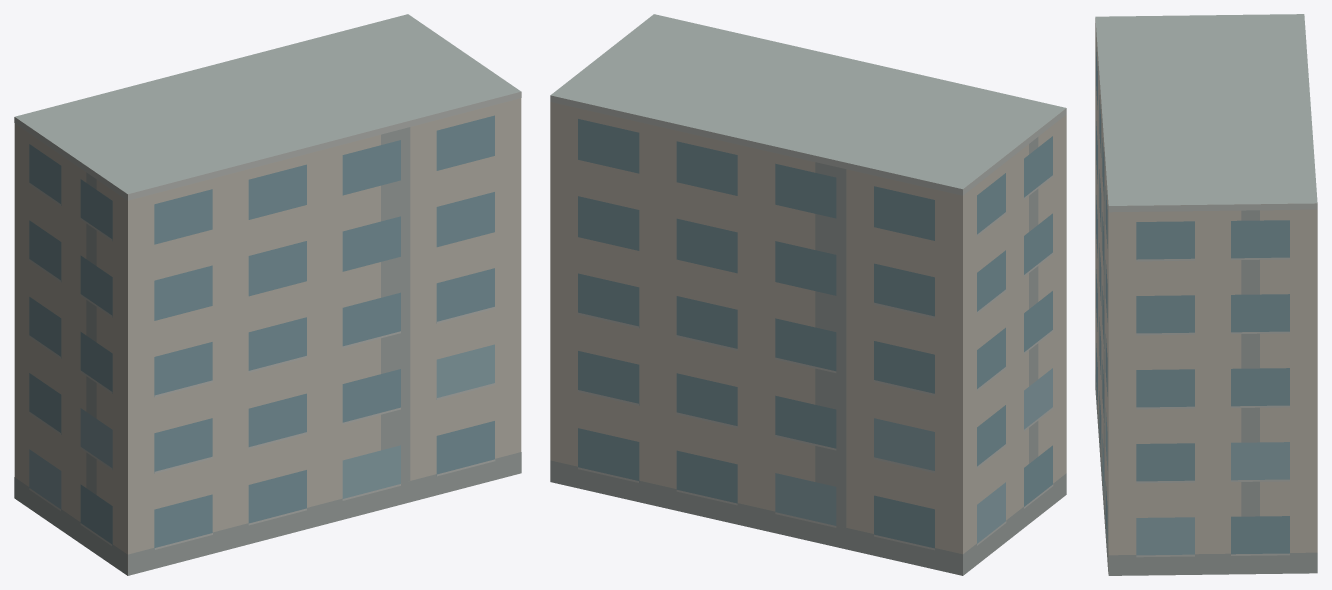
File: survey-upis-33006916.glb
3 views of the same model, side by side, from view 1: azimuth 30°, elevation 25°; view 2: azimuth 150°, elevation 25°; view 3: azimuth 270°, elevation 25° (orthographic). The views are drawn at different scales.
Visible parts, largest first — view 1: survey-upis-33006916.tmp; view 2: survey-upis-33006916.tmp; view 3: survey-upis-33006916.tmp.
Part boxes in pixels (x1,y1,x2,y2): survey-upis-33006916.tmp: (14,14,521,575); survey-upis-33006916.tmp: (550,14,1066,575); survey-upis-33006916.tmp: (1095,14,1317,575).
Bounding box in the file's own units: 16.26 × 14.6 × 7.96.
